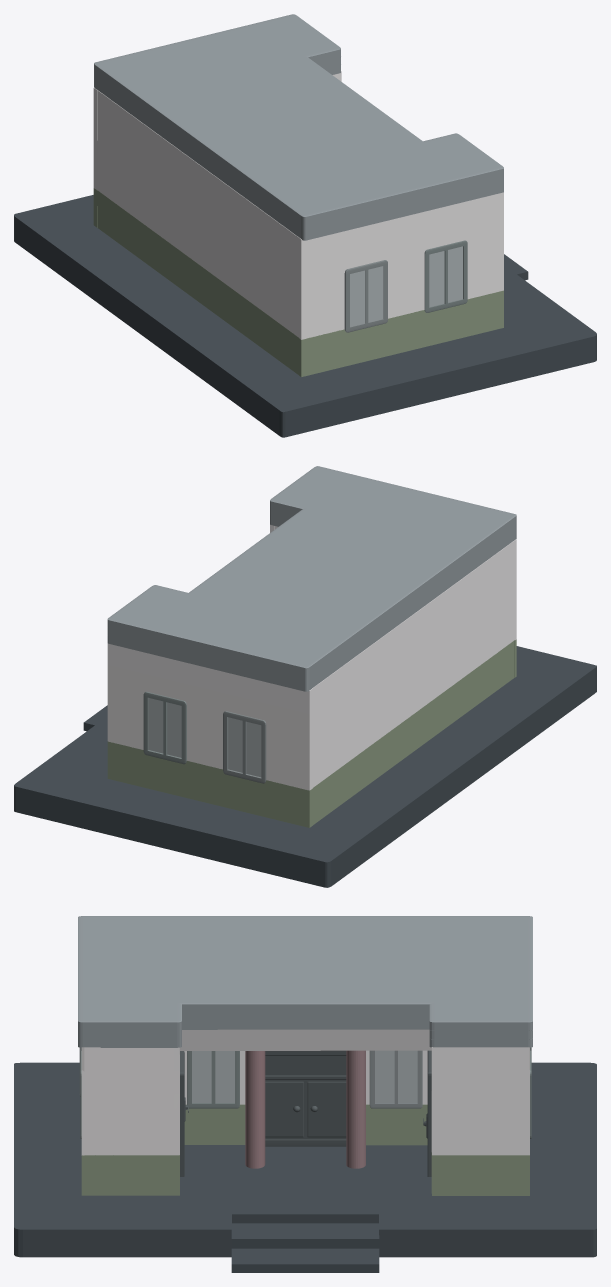
The model's file is 村务中心.fbx.
The picture shows the model from 3 angles, top to bottom: view 1: azimuth 30°, elevation 25°; view 2: azimuth 150°, elevation 25°; view 3: azimuth 270°, elevation 25°; orthographic projection. The views are drawn at different scales.
Parts seen in each view (by area): view 1: 屋顶, ground, 上墙, 下墙.001, 平面.003, 平面.002, 立方体.005, 立方体.004; view 2: 屋顶, ground, 上墙, 下墙.001, 平面.004, 平面.005, 立方体.002, 立方体.003; view 3: ground, 屋顶, 上墙, 下墙.001, 立方体.006, 立柱, 立柱.001, 平面, 平面.001, 立方体, 立方体.001, 立方体.008 (+1 smaller).
Part boxes in pixels (bbox=[...]): 屋顶: bbox=[94, 14, 503, 240]; ground: bbox=[14, 195, 596, 437]; 上墙: bbox=[93, 71, 503, 339]; 下墙.001: bbox=[93, 188, 503, 377]; 平面.003: bbox=[350, 266, 383, 326]; 平面.002: bbox=[429, 246, 462, 307]; 立方体.005: bbox=[424, 240, 467, 312]; 立方体.004: bbox=[344, 260, 387, 332]; 屋顶: bbox=[107, 466, 516, 691]; ground: bbox=[14, 646, 596, 887]; 上墙: bbox=[107, 524, 516, 790]; 下墙.001: bbox=[107, 639, 516, 827]; 平面.004: bbox=[228, 717, 261, 777]; 平面.005: bbox=[148, 698, 181, 757]; 立方体.002: bbox=[143, 691, 186, 764]; 立方体.003: bbox=[223, 711, 266, 783]; ground: bbox=[14, 1062, 596, 1272]; 屋顶: bbox=[78, 916, 532, 1047]; 上墙: bbox=[81, 1029, 529, 1155]; 下墙.001: bbox=[81, 1104, 529, 1195]; 立方体.006: bbox=[265, 1050, 346, 1146]; 立柱: bbox=[245, 1051, 265, 1168]; 立柱.001: bbox=[346, 1050, 365, 1168]; 平面: bbox=[375, 1050, 417, 1102]; 平面.001: bbox=[192, 1051, 234, 1102]; 立方体: bbox=[369, 1050, 422, 1108]; 立方体.001: bbox=[187, 1051, 239, 1108]; 立方体.008: bbox=[423, 1050, 431, 1176].
Size of the model in its own units: 3281 by 1689 by 4431.
